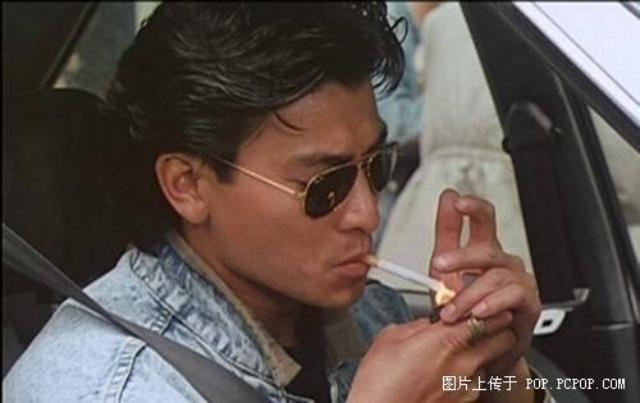Cigarette: (360, 254, 448, 296)
